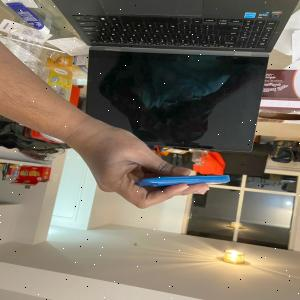Diamond-E-Ciggirate: (138, 166, 236, 190)
